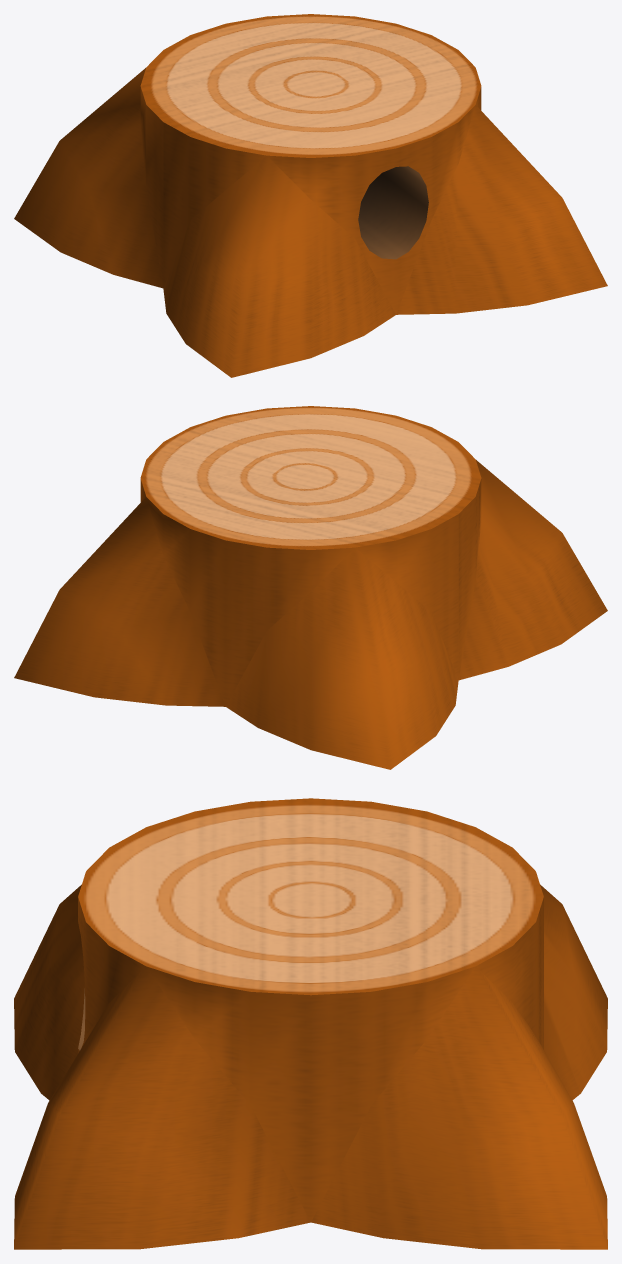
File: stubble_v3.fbx
The picture shows the model from 3 angles, top to bottom: view 1: azimuth 30°, elevation 25°; view 2: azimuth 150°, elevation 25°; view 3: azimuth 270°, elevation 25°; orthographic projection. The views are drawn at different scales.
Parts seen in each view (by area): view 1: wood_ne00, wood_ne04, wood_ne01, wood_ne03; view 2: wood_ne00, wood_ne03, wood_ne02, wood_ne04; view 3: wood_ne00, wood_ne02, wood_ne01, wood_ne04, wood_ne03.
Boxes of the visible parts, x1,y1,x2,y2 form: wood_ne00: (140,14,481,314); wood_ne04: (163,156,395,377); wood_ne01: (396,105,607,314); wood_ne03: (14,68,163,288); wood_ne00: (140,406,481,706); wood_ne03: (226,548,458,769); wood_ne02: (14,497,225,706); wood_ne04: (458,460,607,680); wood_ne00: (78,798,543,1221); wood_ne02: (311,966,607,1249); wood_ne01: (14,966,310,1249); wood_ne04: (14,884,84,1100); wood_ne03: (540,884,607,1100).
Size of the model in its own units: 4.26 by 1.8 by 4.26.
